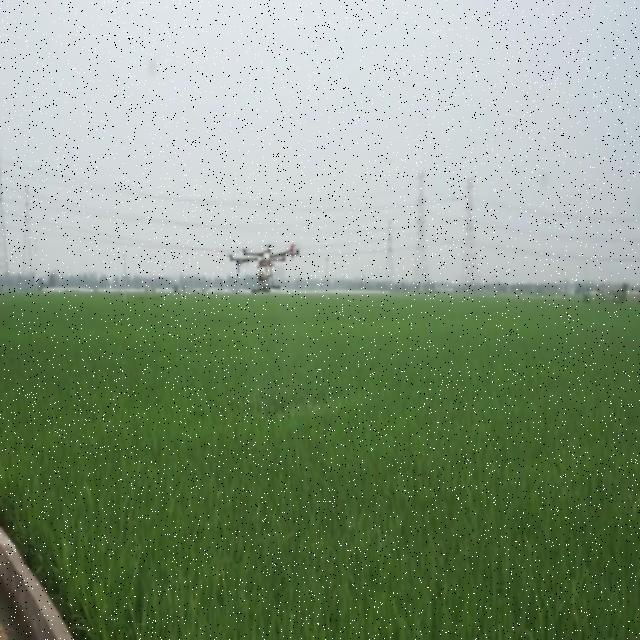UAV: (227, 244, 300, 294)
